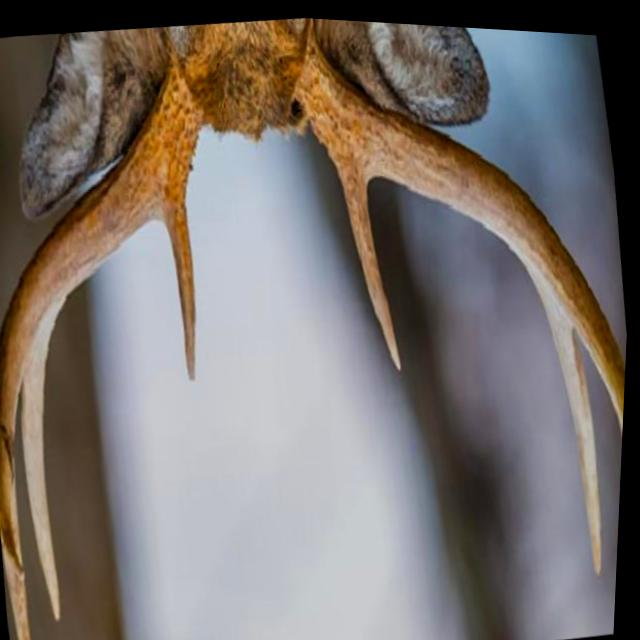L-F: (0, 63, 202, 578)
L-G1: (163, 186, 199, 380)
L-G2: (24, 305, 66, 621)
R-F: (298, 21, 628, 422)
R-G1: (335, 154, 405, 369)
R-G2: (527, 256, 607, 565)
